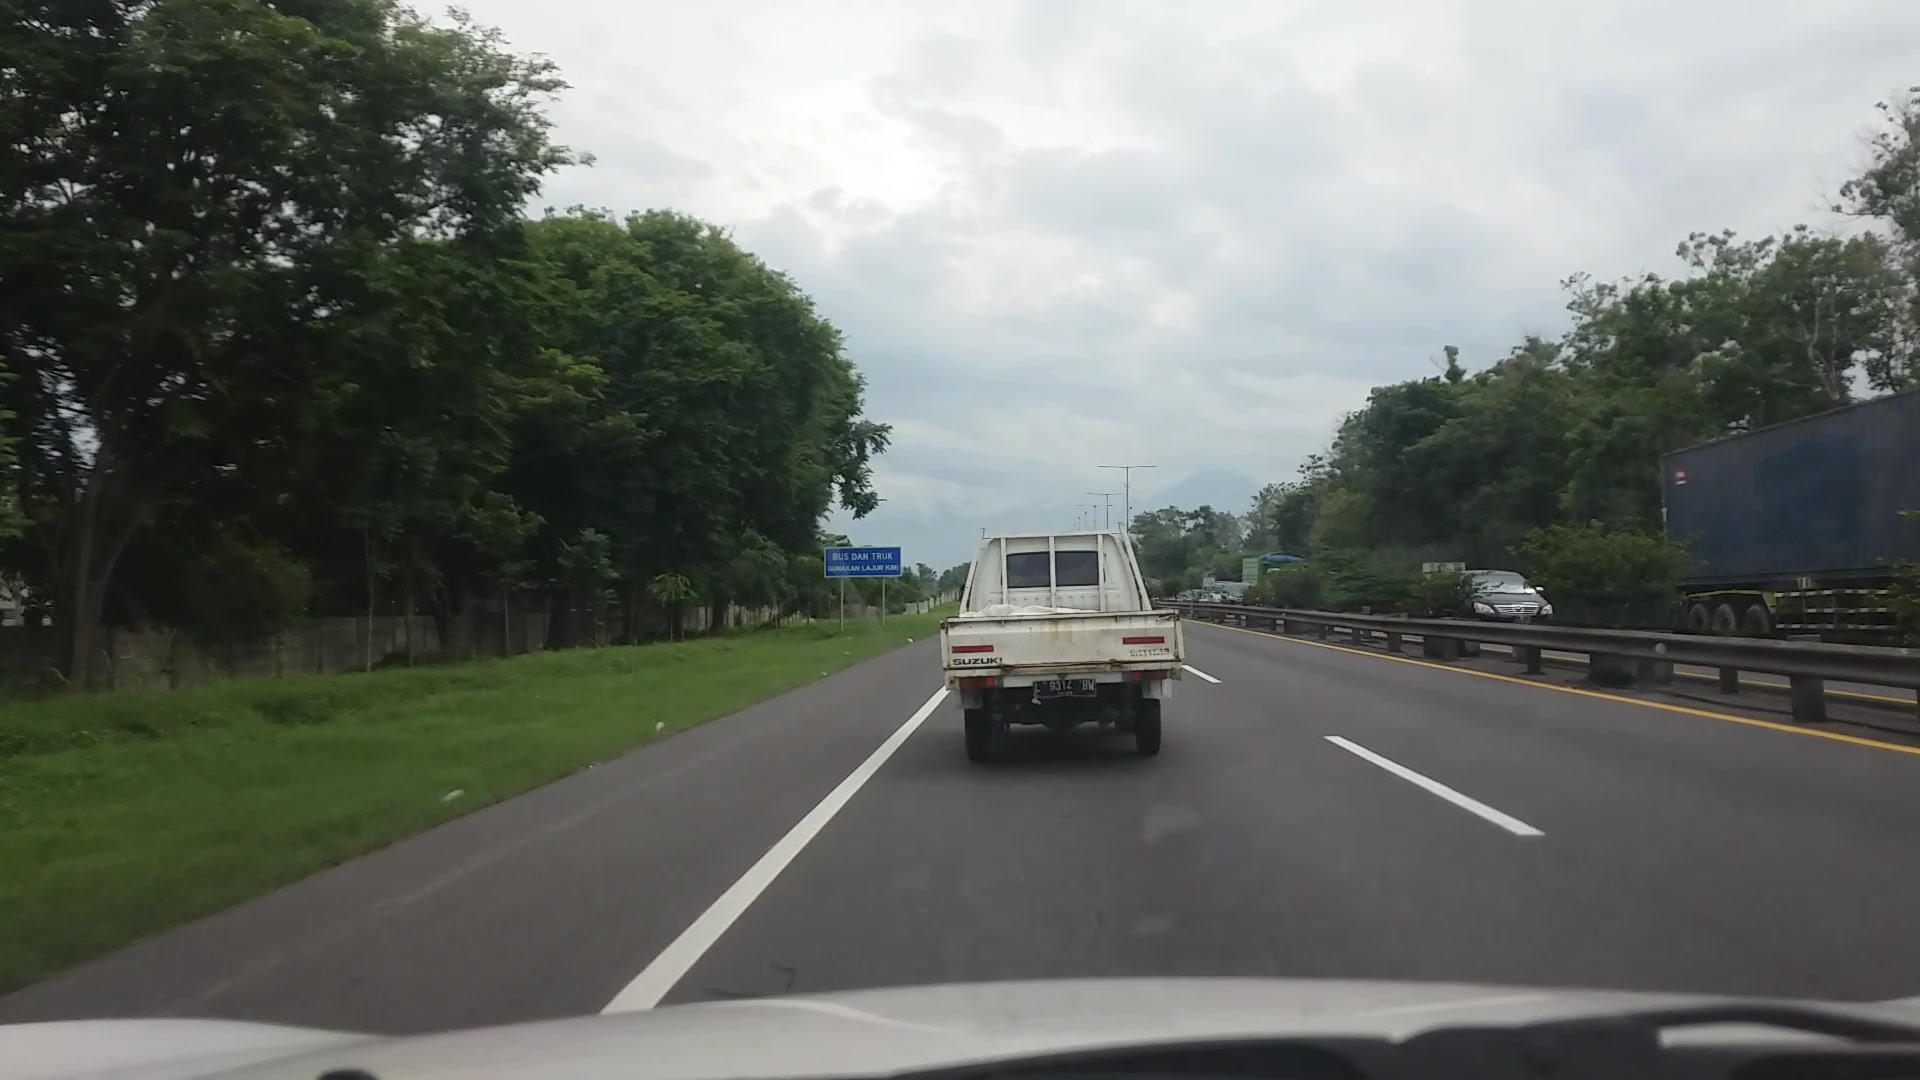plate_positive: (1033, 678, 1096, 698)
